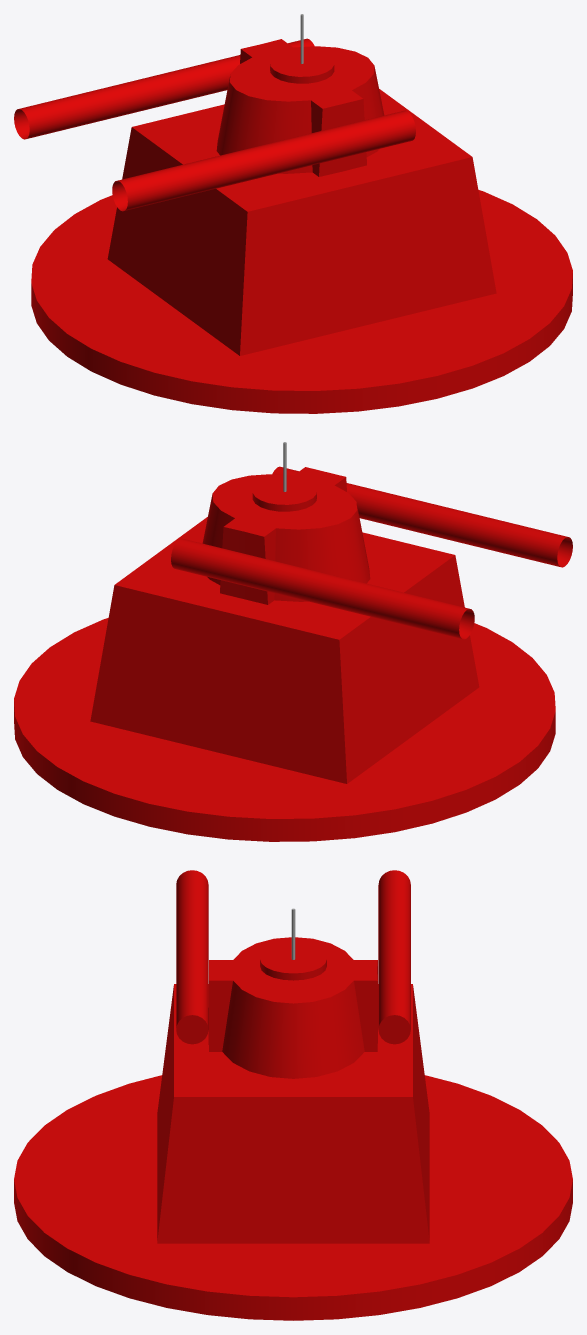
The model's file is tower1_enemy.fbx.
3 renders of one model, top to bottom at view 1: azimuth 30°, elevation 25°; view 2: azimuth 150°, elevation 25°; view 3: azimuth 270°, elevation 25°, orthographic. The views are drawn at different scales.
Visible parts, largest first — view 1: pCube1, pCylinder1, pCylinder2, pCylinder3, pCylinder4, pCylinder5; view 2: pCube1, pCylinder1, pCylinder2, pCylinder4, pCylinder3, pCylinder5; view 3: pCylinder1, pCube1, pCylinder2, pCylinder3, pCylinder4, pCylinder5.
Boxes of the visible parts, x1=… form: pCube1: x1=107, y1=89, x2=496, y2=355; pCylinder1: x1=31, y1=190, x2=572, y2=413; pCylinder2: x1=216, y1=39, x2=384, y2=176; pCylinder3: x1=112, y1=110, x2=415, y2=211; pCylinder4: x1=14, y1=38, x2=314, y2=139; pCylinder5: x1=270, y1=49, x2=334, y2=83; pCube1: x1=90, y1=517, x2=479, y2=783; pCylinder1: x1=14, y1=618, x2=555, y2=841; pCylinder2: x1=202, y1=467, x2=370, y2=604; pCylinder4: x1=171, y1=538, x2=474, y2=639; pCylinder3: x1=272, y1=466, x2=572, y2=567; pCylinder5: x1=252, y1=477, x2=316, y2=511; pCylinder1: x1=14, y1=1075, x2=572, y2=1320; pCube1: x1=157, y1=984, x2=429, y2=1243; pCylinder2: x1=208, y1=937, x2=377, y2=1078; pCylinder3: x1=176, y1=870, x2=208, y2=1044; pCylinder4: x1=378, y1=870, x2=410, y2=1044; pCylinder5: x1=260, y1=945, x2=326, y2=980.
Bounding box in the file's own units: 15.96 × 9.24 × 15.96.
